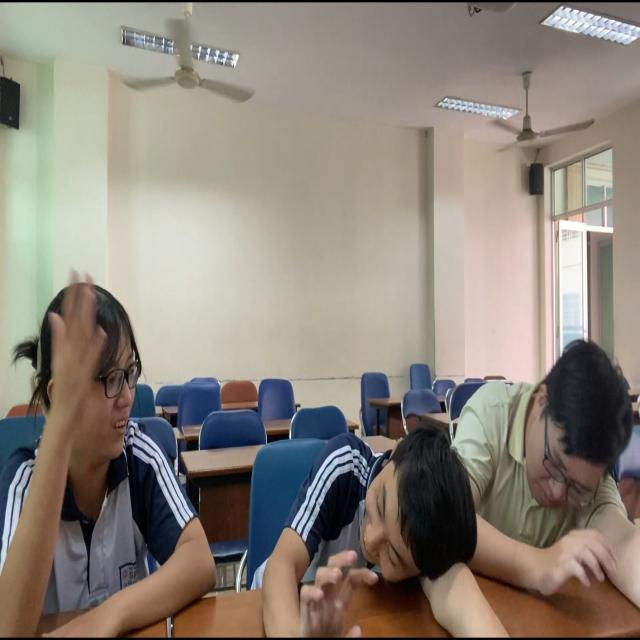sleep: (405, 329, 640, 634), (227, 424, 485, 640)
